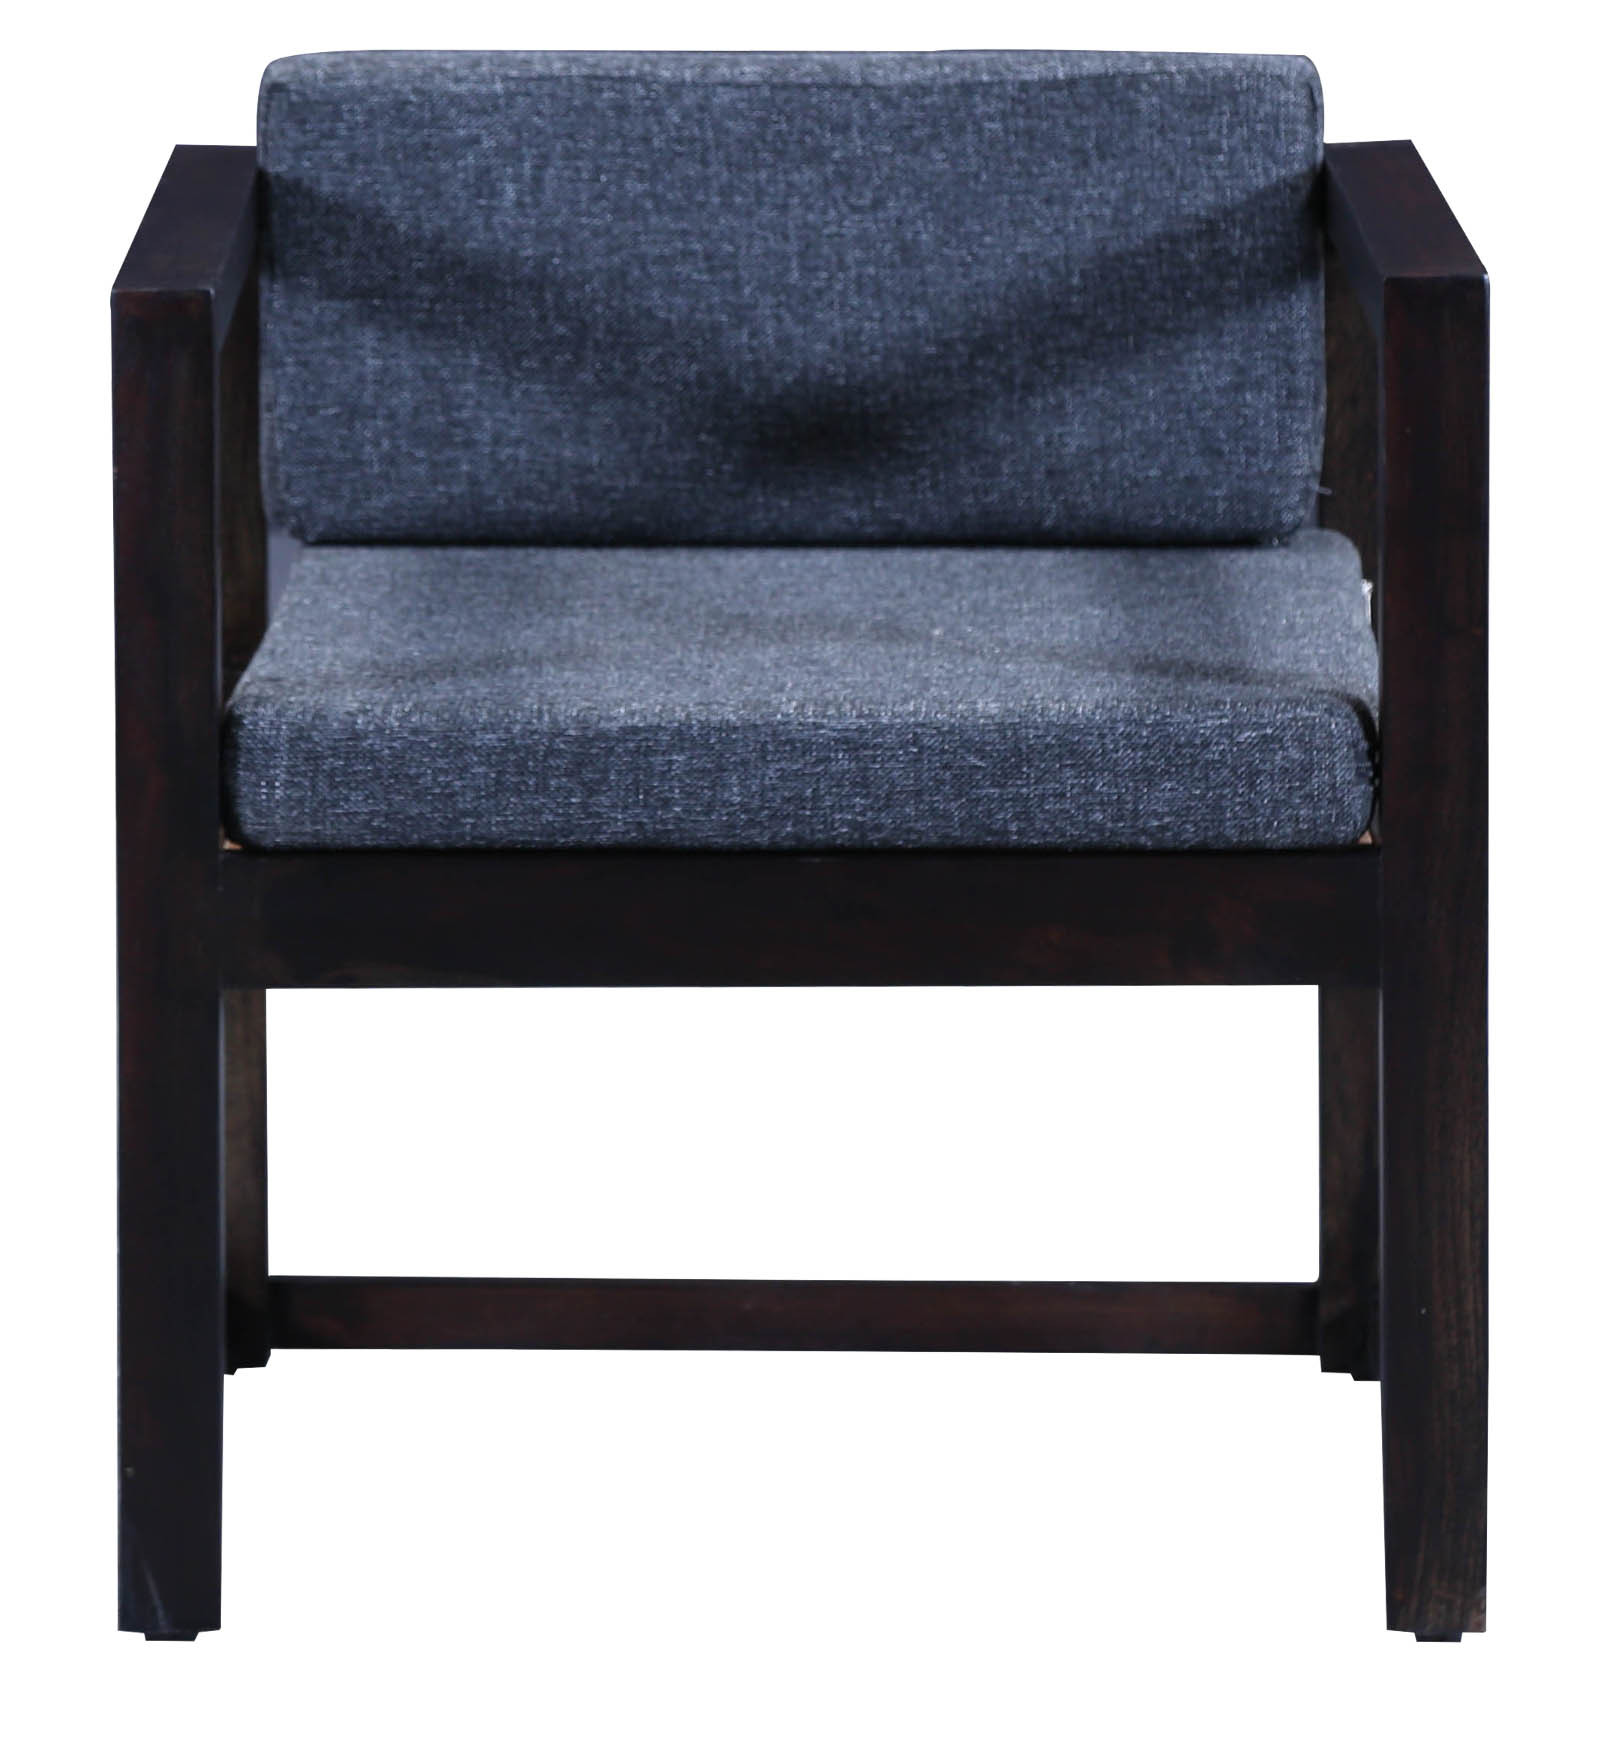Avian Arm Chair in Warm Chestnut Finish by Woodsworth: (74, 9, 1542, 1699)
